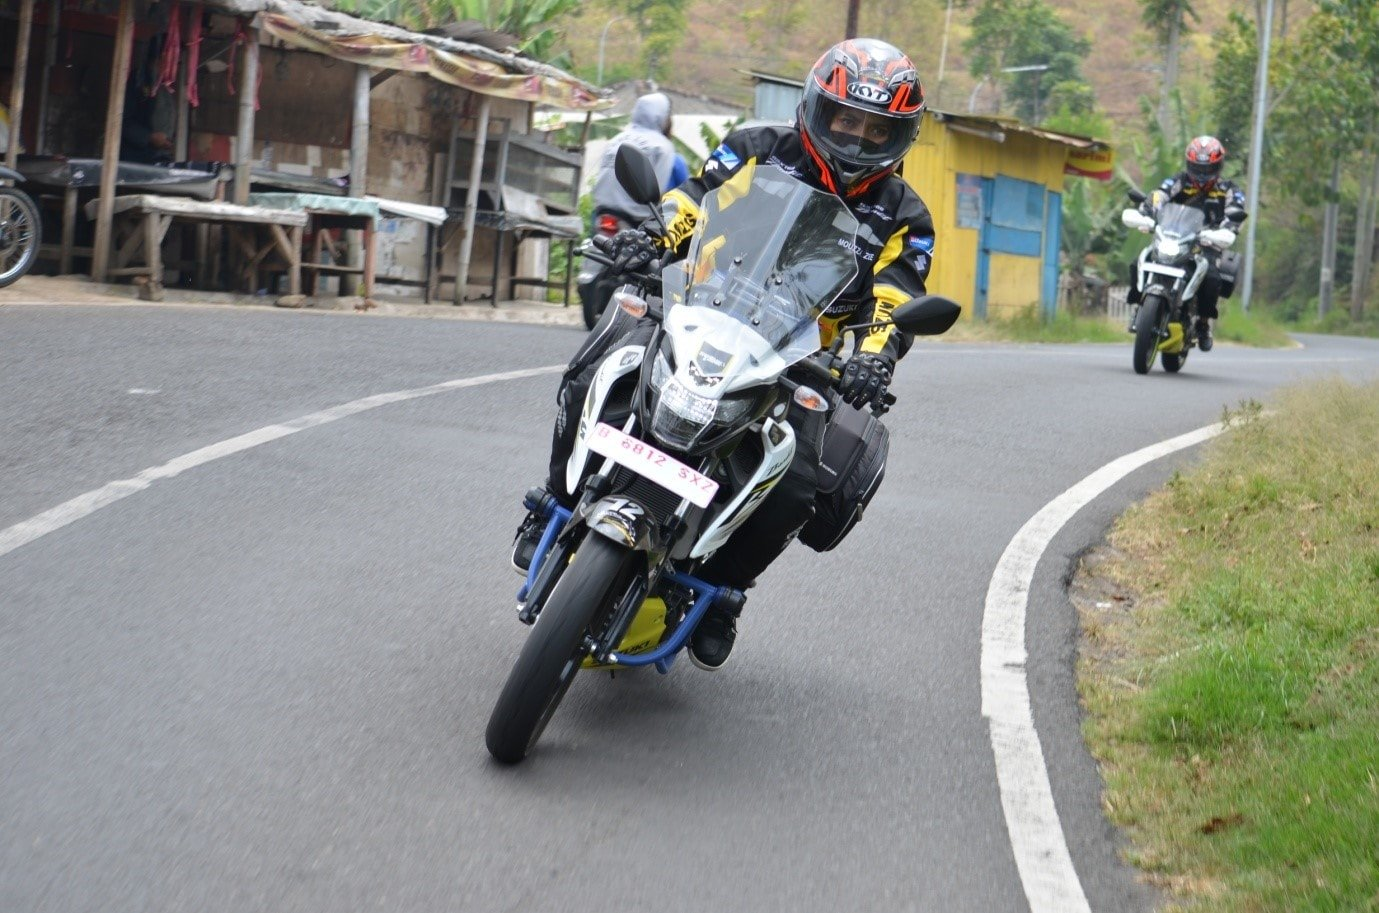motor: (468, 148, 895, 795), (1118, 205, 1251, 377)
